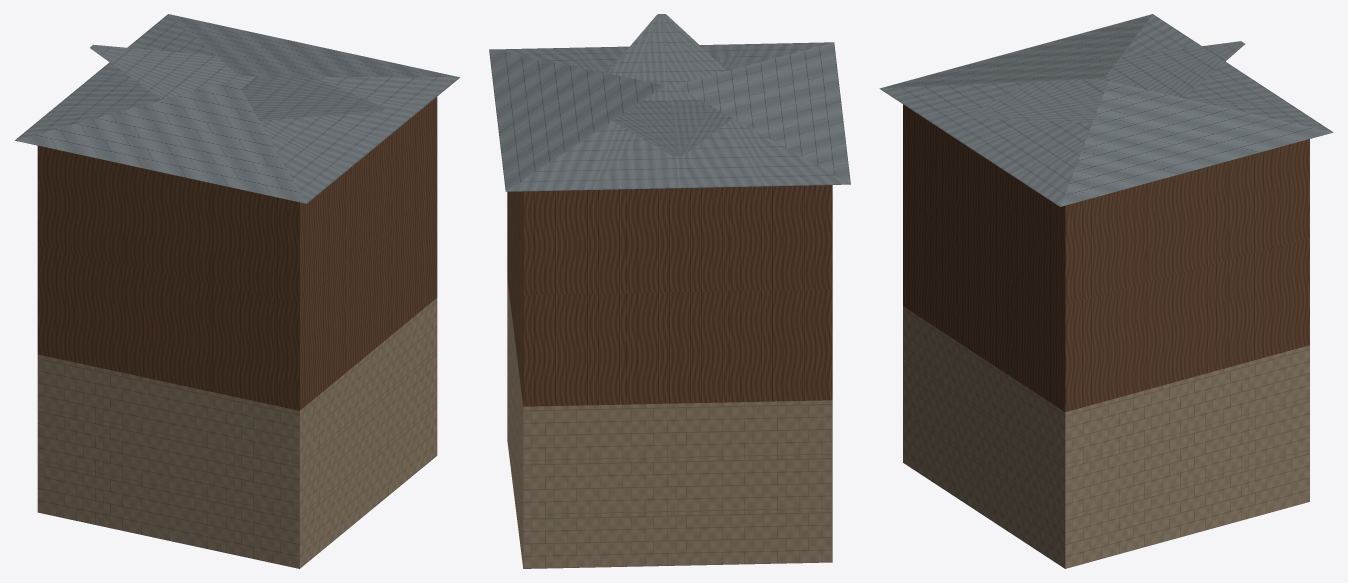
Rendered from bld_c16_25_401.gltf.
The picture shows the model from 3 angles, left to right: view 1: azimuth 30°, elevation 25°; view 2: azimuth 150°, elevation 25°; view 3: azimuth 270°, elevation 25°; orthographic projection. The views are drawn at different scales.
Parts seen in each view (by area): view 1: bld_c16_25_401; view 2: bld_c16_25_401; view 3: bld_c16_25_401.
Boxes of the visible parts, bbox=[...] form: bld_c16_25_401: bbox=[15, 14, 459, 568]; bld_c16_25_401: bbox=[489, 14, 850, 568]; bld_c16_25_401: bbox=[879, 14, 1333, 568].
Bounding box in the file's own units: 13.48 × 13.1 × 13.41.
3 materials, 3 textured.
